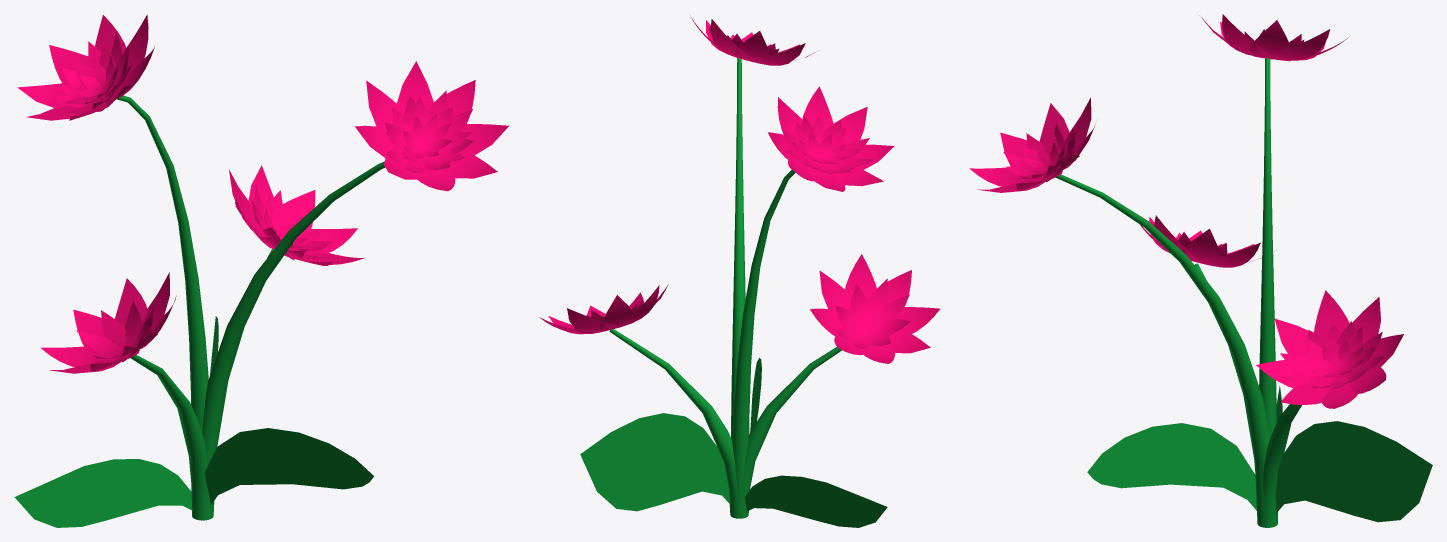
Rendered from plant4.fbx.
3 views of the same model, side by side, from view 1: azimuth 30°, elevation 25°; view 2: azimuth 150°, elevation 25°; view 3: azimuth 270°, elevation 25° (orthographic). The views are drawn at different scales.
Parts seen in each view (by area): view 1: Flower_2, Leaves; view 2: Leaves, Flower_2; view 3: Leaves, Flower_2.
Boxes of the visible parts, <box> form: Flower_2: <box>17,14,508,373</box>; Leaves: <box>14,95,385,527</box>; Leaves: <box>580,58,887,527</box>; Flower_2: <box>539,15,940,363</box>; Leaves: <box>1056,57,1432,527</box>; Flower_2: <box>969,14,1403,408</box>.
Size of the model in its own units: 1.63 by 2.08 by 1.82.
